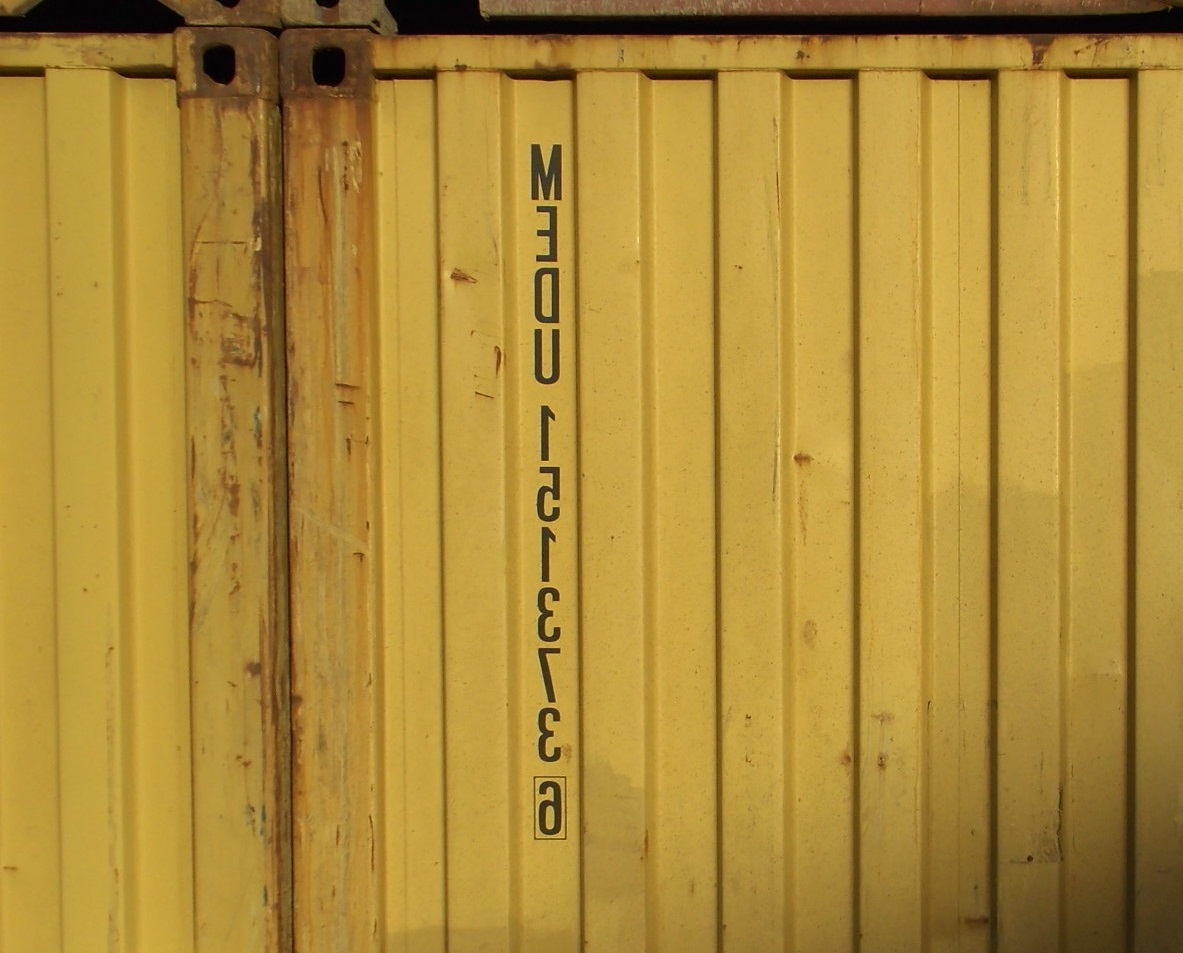container_no_door: (284, 26, 1176, 948)
